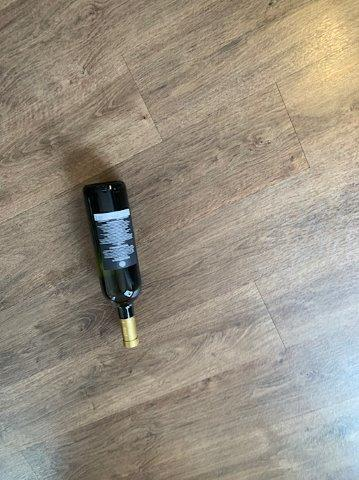botolkaca: (83, 182, 142, 347)
